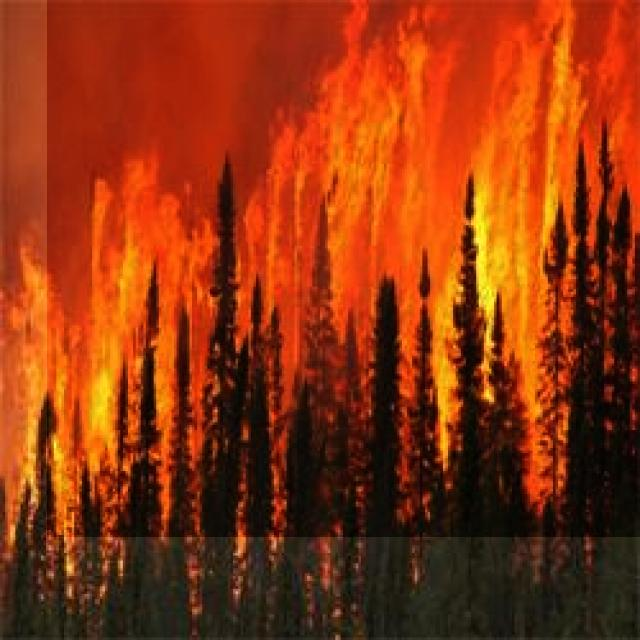Fire: (47, 0, 640, 537)
